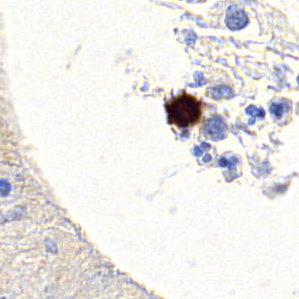Lymphocyte: (161, 90, 207, 136)
